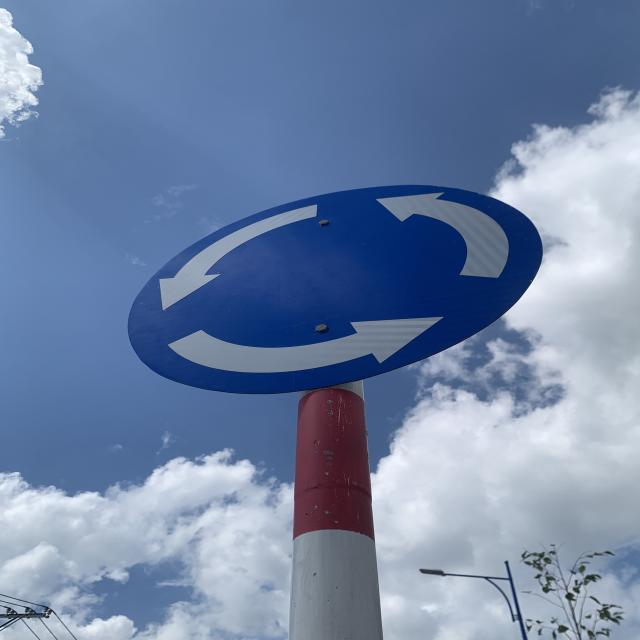Xe_Bus: (119, 177, 546, 396)
